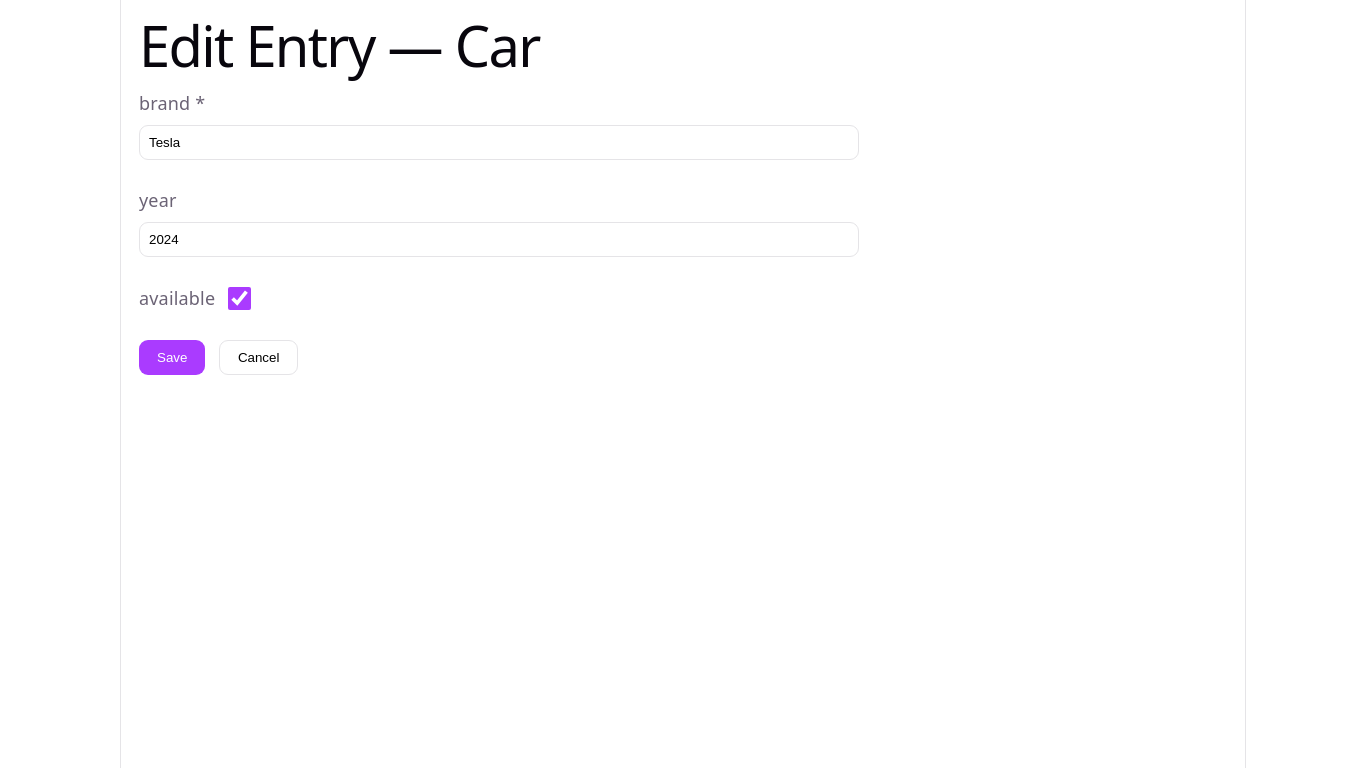
it: EntryEditorPage — mid-edit schema.updated (6.5) › shows a banner and keeps editing on the old schema until reconciled
expect the field named "brand" is shown: met, box [139,125,859,160]
Replace the text in the number field named "year" with "2025" at (499, 240), box [139,222,859,257]
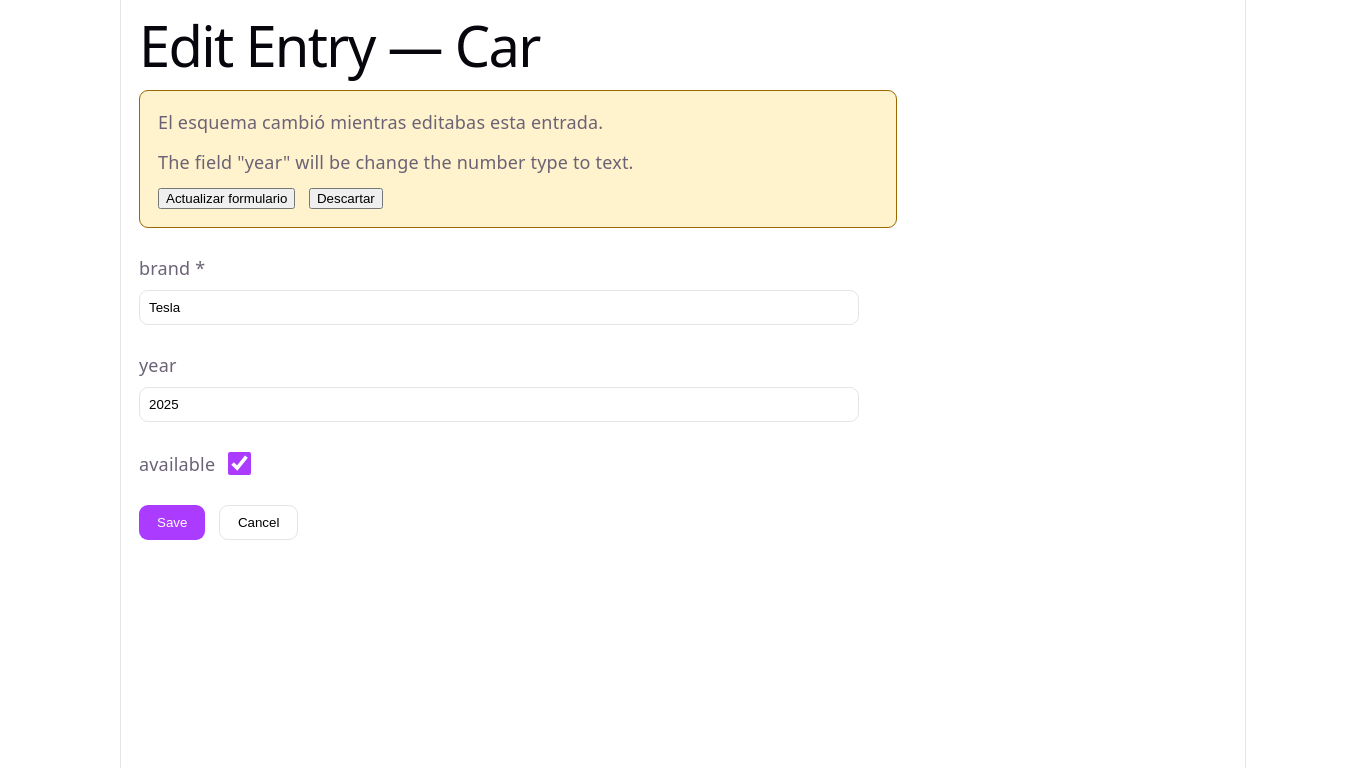
expect the text "El esquema cambió mientras editabas esta entrada." is shown: met, box [158,110,603,134]
